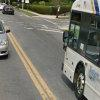Bus: (58, 0, 100, 99)
